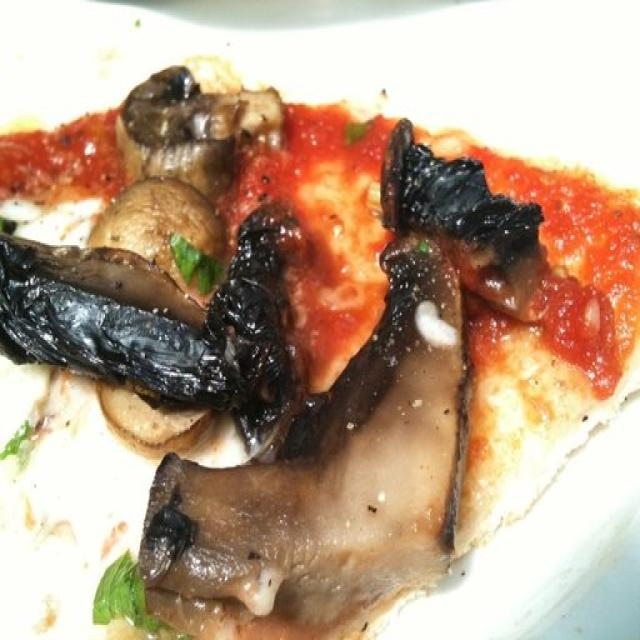Basil: (93, 568, 157, 636), (171, 234, 223, 305), (344, 122, 364, 153), (416, 242, 429, 255)
Mushrooms: (16, 249, 289, 416), (156, 463, 457, 587), (301, 252, 461, 458), (387, 148, 540, 304), (120, 70, 283, 160), (105, 184, 241, 274), (243, 198, 307, 258)
Pizza: (0, 56, 640, 621)
